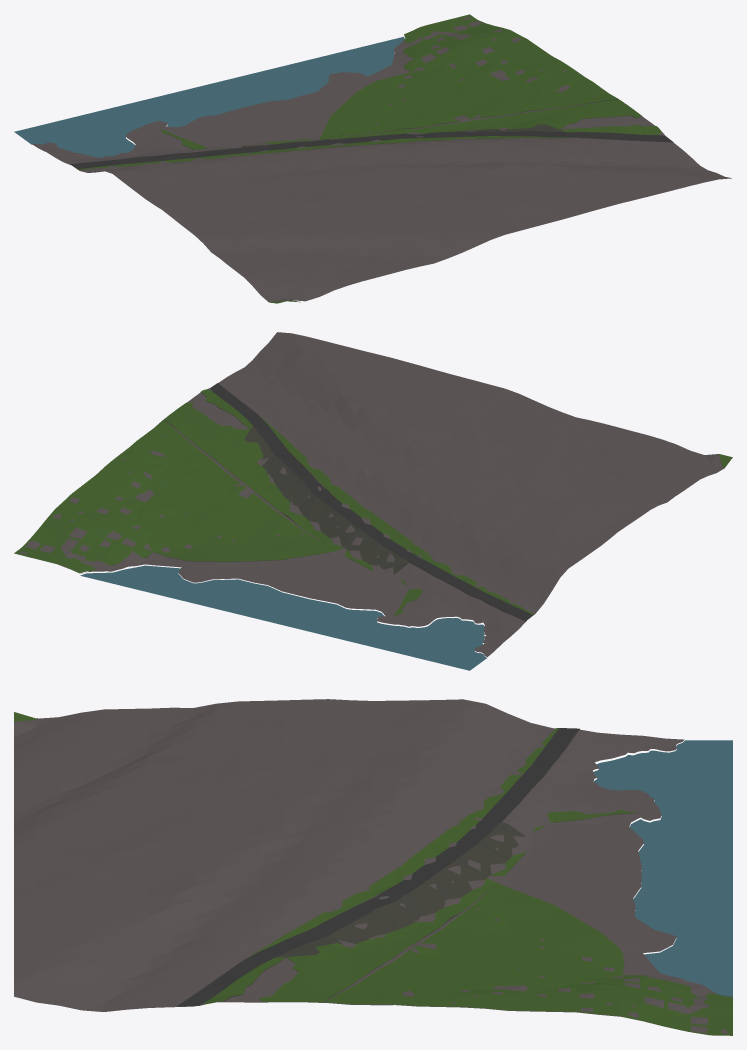
3 views of the same model, one above another, from view 1: azimuth 30°, elevation 25°; view 2: azimuth 150°, elevation 25°; view 3: azimuth 270°, elevation 25° (orthographic). The views are drawn at different scales.
Visible parts, largest first — view 1: c_m19_p02; view 2: c_m19_p02; view 3: c_m19_p02.
Boxes of the visible parts, x1,y1,x2,y2 form: c_m19_p02: (14,14,731,303); c_m19_p02: (14,332,732,670); c_m19_p02: (14,699,732,1035).
Bounding box in the file's own units: 128 × 10.4 × 128.
